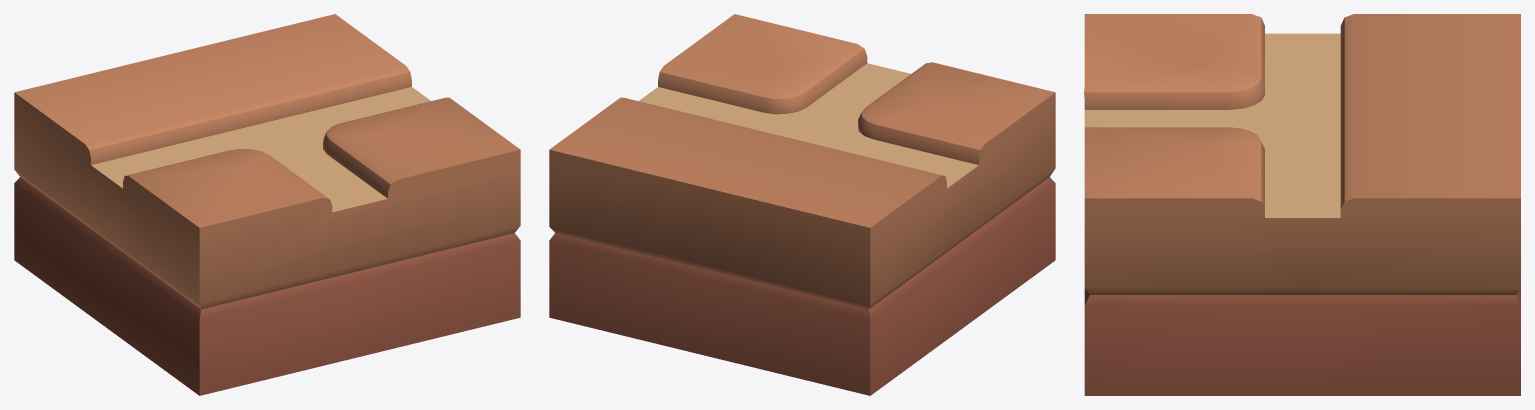
Rendered from kaykit-square-rock-roadd-detail.glb.
The picture shows the model from 3 angles, left to right: view 1: azimuth 30°, elevation 25°; view 2: azimuth 150°, elevation 25°; view 3: azimuth 270°, elevation 25°; orthographic projection. The views are drawn at different scales.
Parts seen in each view (by area): view 1: square_rock_roadD_detail; view 2: square_rock_roadD_detail; view 3: square_rock_roadD_detail.
Part boxes in pixels (box(x1,y1,x2,y2)): square_rock_roadD_detail: box(14, 14, 520, 395); square_rock_roadD_detail: box(549, 14, 1055, 395); square_rock_roadD_detail: box(1084, 14, 1520, 395).
Size of the model in its own units: 2 by 1 by 2.
